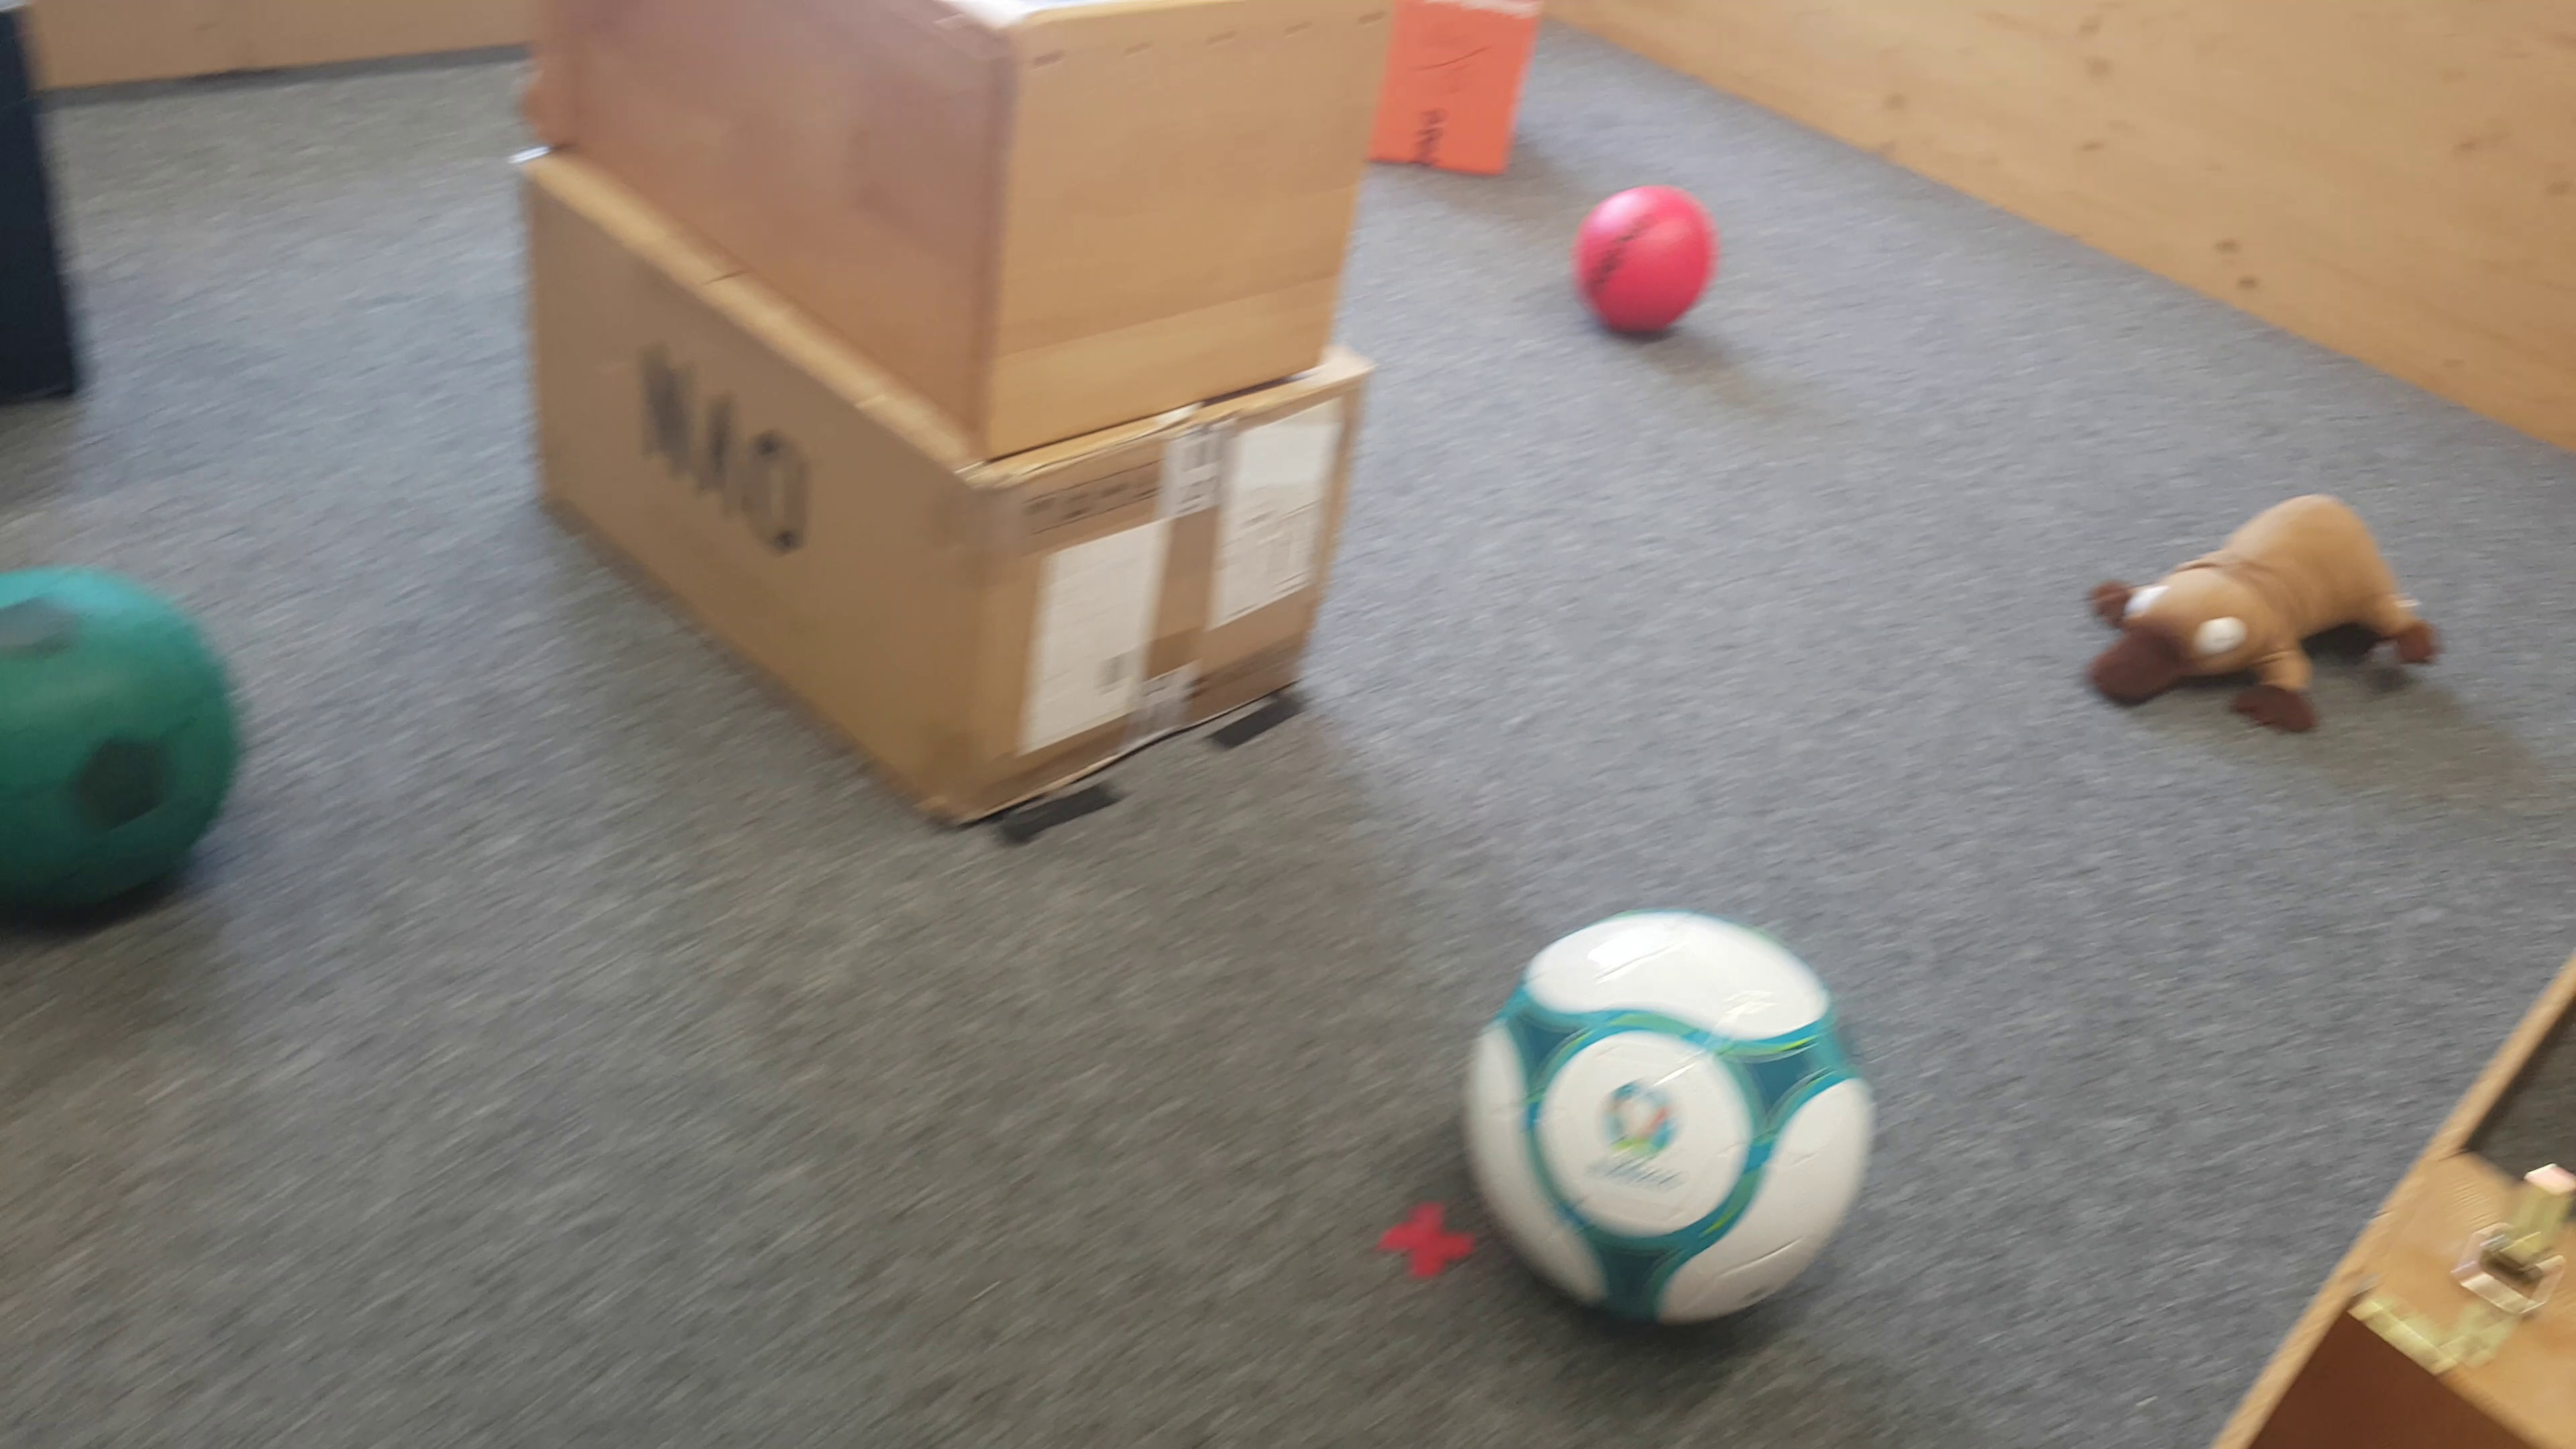grasp: (2095, 492, 2440, 752)
kick: (1453, 911, 1882, 1336), (4, 570, 241, 925), (1580, 188, 1714, 341)
